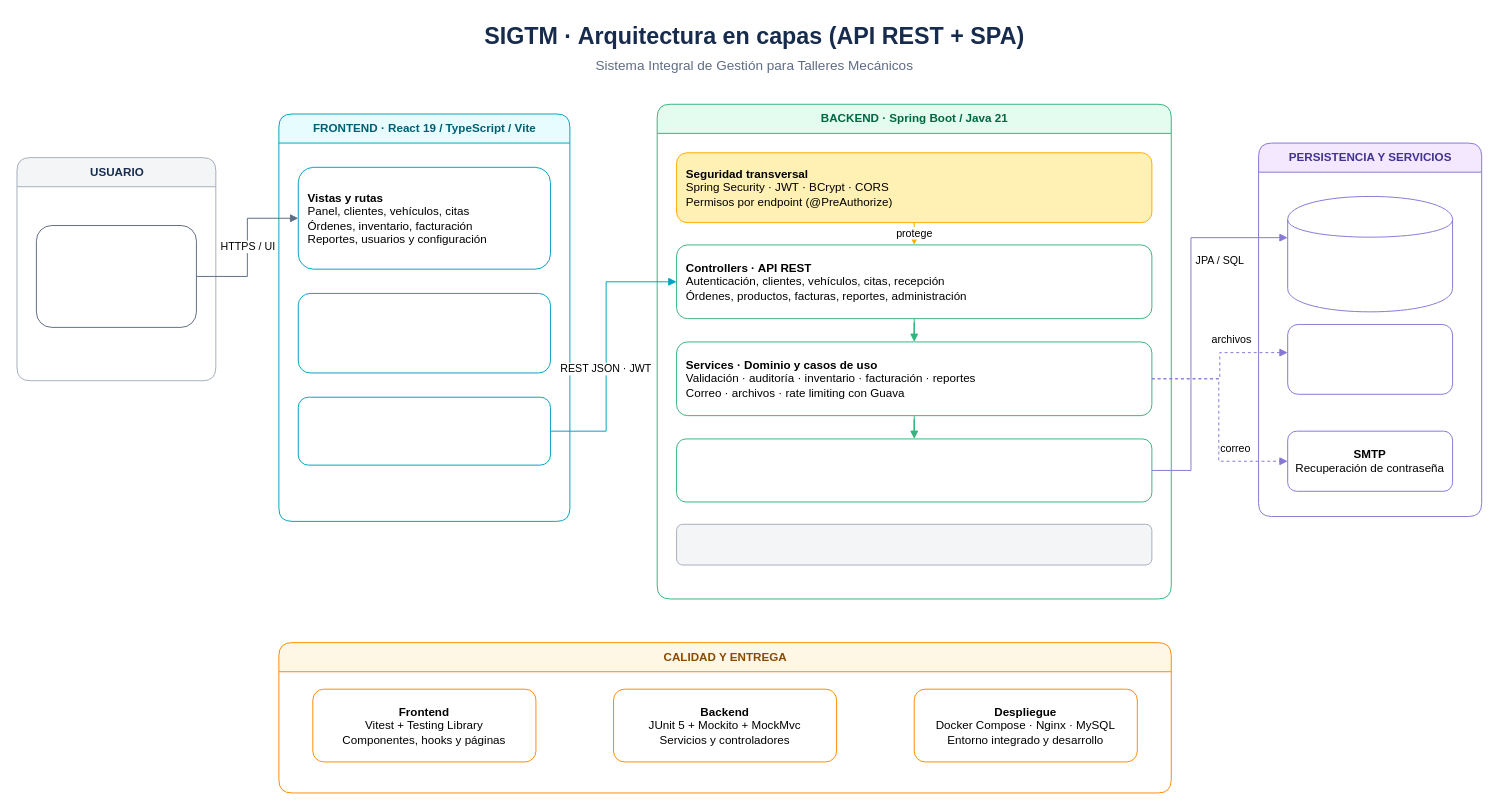
Image size: 1499x810. Some labels were removed from this diagram. Here are the shapes that lost their labels. From the top down, the centre of each, then its label:
At [1370,253]: "MySQL 8 Usuarios · operación · catálogos Auditoría · configuración".
At [115,276]: "Navegador web Administrador · Gerente Recepción · Mecánico · Almacén".
At [423,332]: "Acceso y experiencia RouteGuard · PermissionContext JWT en Authorization Bearer".
At [1370,358]: "Almacenamiento Imágenes de recepción /uploads".
At [423,430]: "Servicios HTTP Axios · /api · exportación PDF/XLSX".
At [914,470]: "Repositories / DAO · Spring Data JPA Acceso encapsulado a entidades y consultas".
At [914,544]: "Excepciones globales · DTOs · Validación · Logback".
